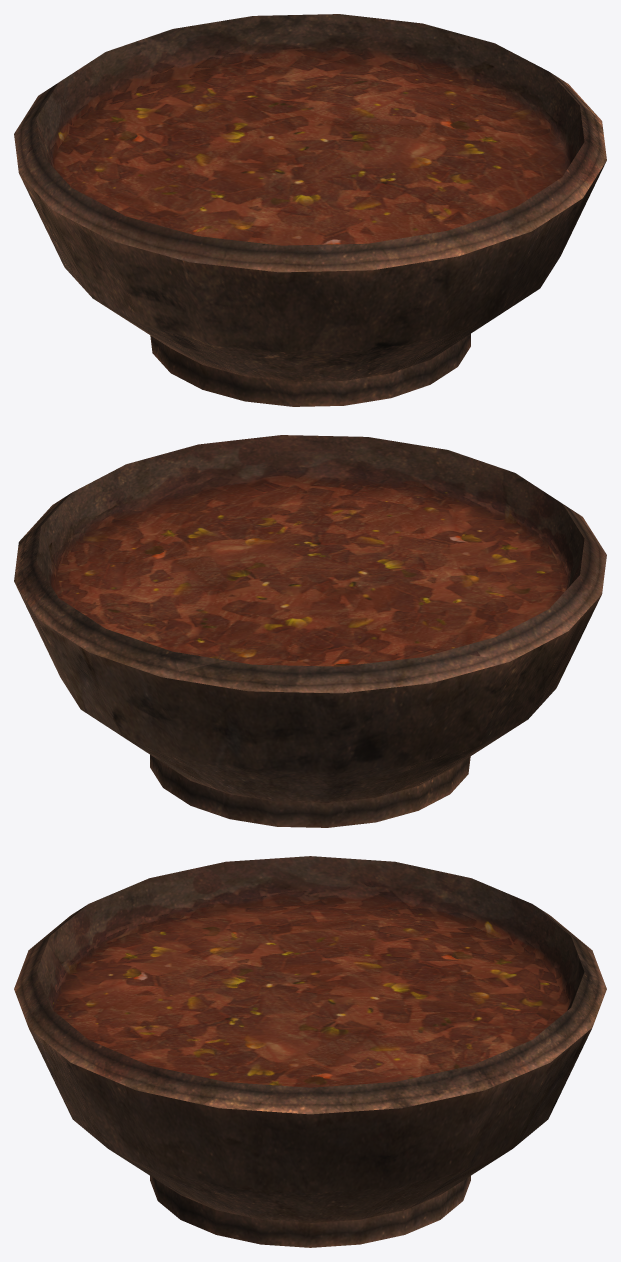
The model's file is BowlSoup.fbx.
3 views of the same model, one above another, from view 1: azimuth 30°, elevation 25°; view 2: azimuth 150°, elevation 25°; view 3: azimuth 270°, elevation 25° (orthographic).
Parts seen in each view (by area): view 1: Default_Layer; view 2: Default_Layer; view 3: Default_Layer.
Part boxes in pixels (x1=…): Default_Layer: x1=14, y1=14, x2=606, y2=406; Default_Layer: x1=14, y1=435, x2=606, y2=827; Default_Layer: x1=14, y1=856, x2=606, y2=1247.
Size of the model in its own units: 63.5 by 24.59 by 63.5.
